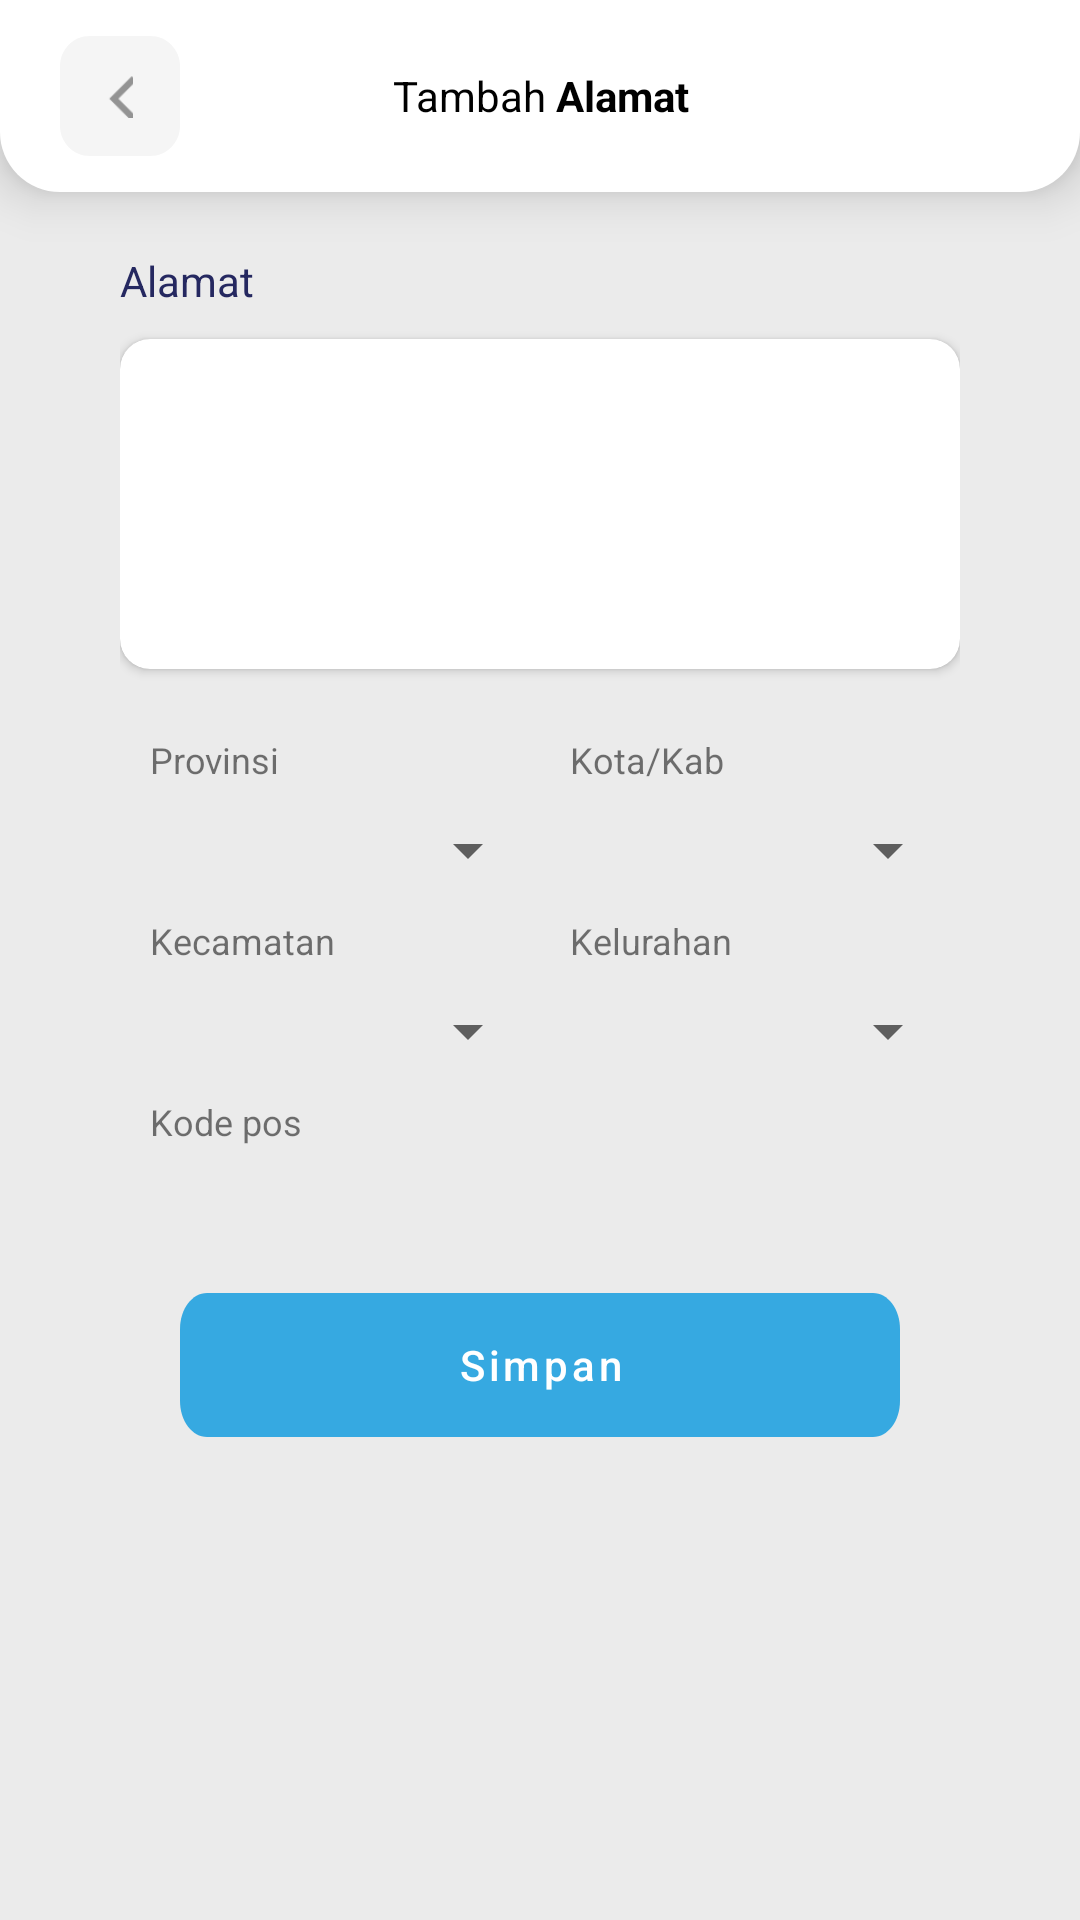

Icon bounding boxes for this 1080*1920 phone screenshot, format (x1, y1, x2, y2):
back: (110, 76, 133, 118)
